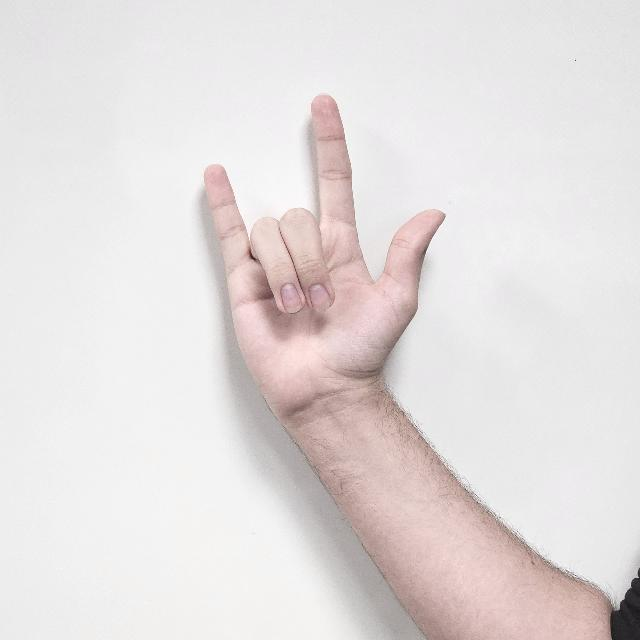Cima: (202, 91, 448, 438)
